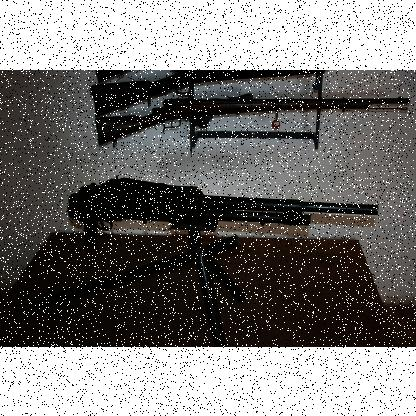gun: (22, 69, 410, 345)
